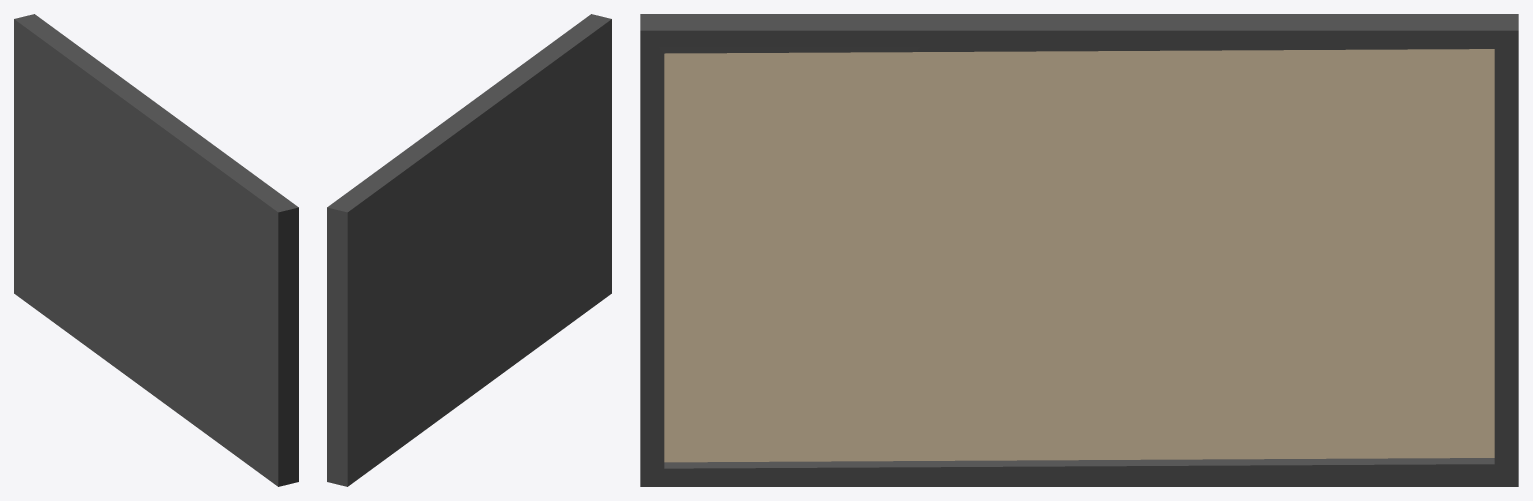
The model's file is boardvide.glb.
3 views of the same model, side by side, from view 1: azimuth 30°, elevation 25°; view 2: azimuth 150°, elevation 25°; view 3: azimuth 270°, elevation 25° (orthographic). The views are drawn at different scales.
Parts seen in each view (by area): view 1: Node.002; view 2: Node.002; view 3: Node.002.
Part boxes in pixels (x1,y1,x2,y2): Node.002: (14, 14, 298, 486); Node.002: (327, 14, 611, 486); Node.002: (640, 14, 1518, 486).
Size of the model in its own units: 0.4 by 5.1 by 8.9.
